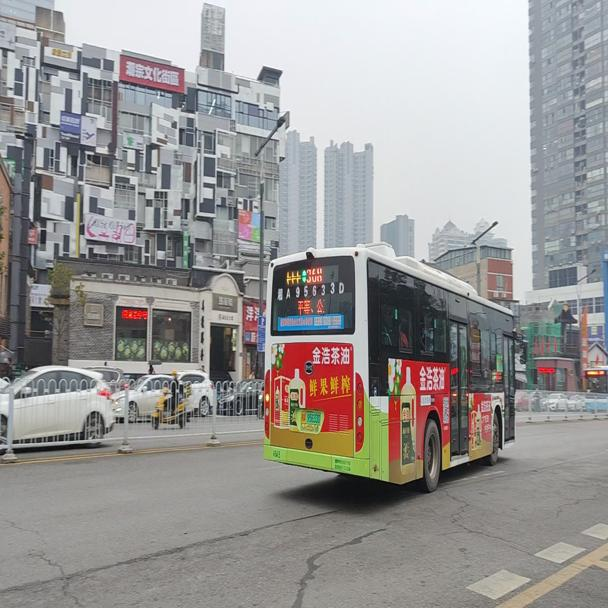bus: (265, 239, 526, 491)
screen: (306, 267, 323, 284)
